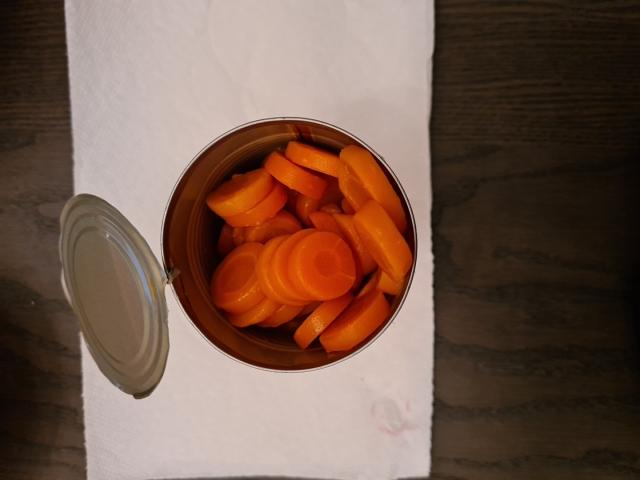kichen waste: (207, 145, 409, 352)
